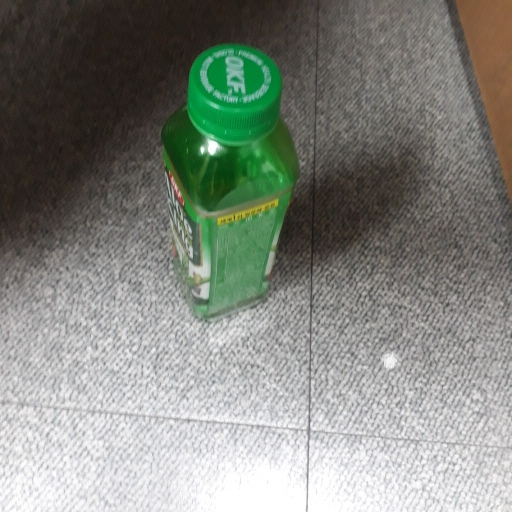Plastic_0: (162, 43, 298, 319)
